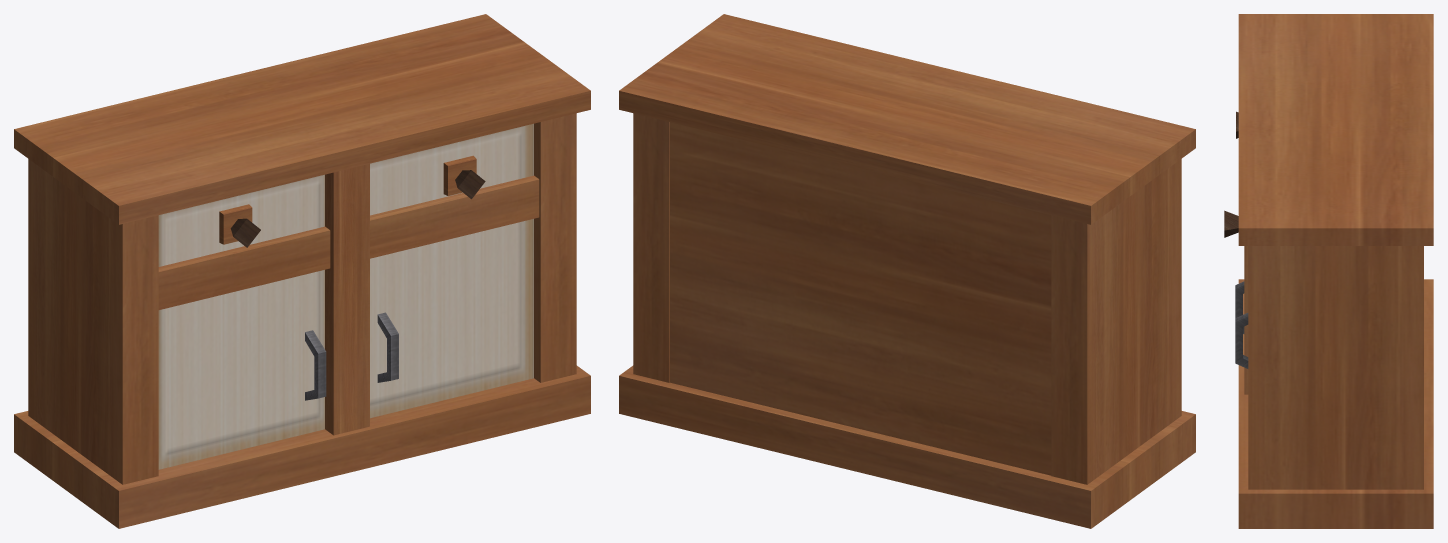
Rendered from Cupboard_3_1.fbx.
3 renders of one model, left to right at view 1: azimuth 30°, elevation 25°; view 2: azimuth 150°, elevation 25°; view 3: azimuth 270°, elevation 25°, orthographic. The views are drawn at different scales.
Parts seen in each view (by area): view 1: polySurface1496; view 2: polySurface1496; view 3: polySurface1496.
Part boxes in pixels (box(x1,y1,x2,y2)): polySurface1496: box(14, 14, 590, 528); polySurface1496: box(619, 14, 1195, 528); polySurface1496: box(1224, 14, 1433, 528).
Bounding box in the file's own units: 1.3 × 0.85 × 0.5362.
